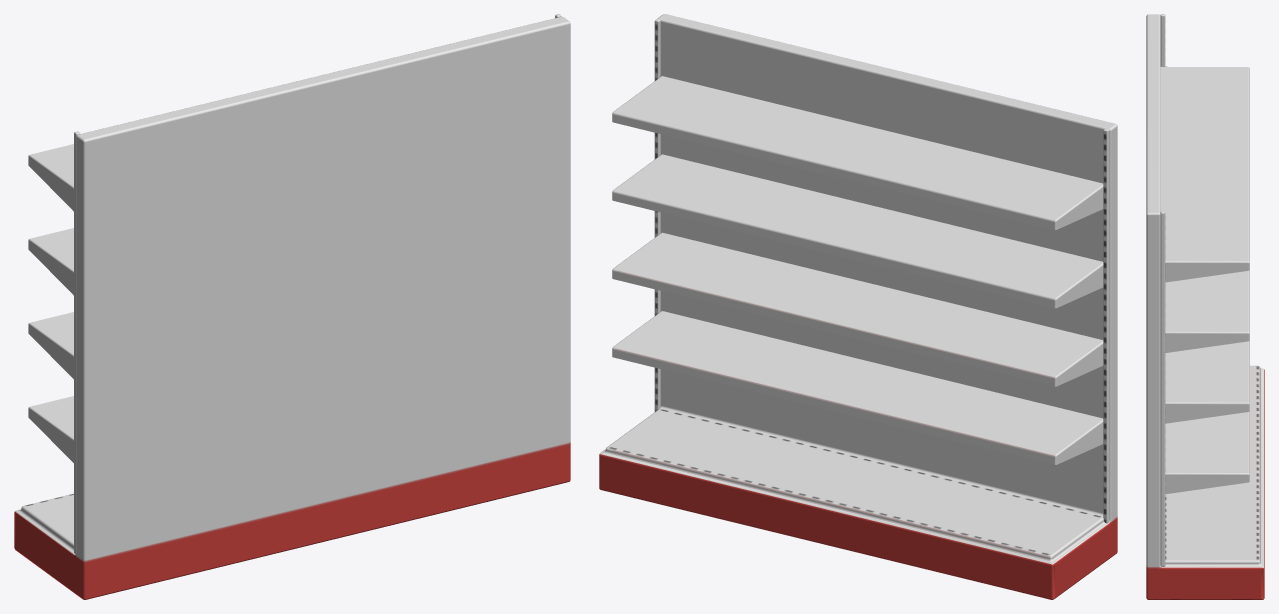
3 renders of one model, left to right at view 1: azimuth 30°, elevation 25°; view 2: azimuth 150°, elevation 25°; view 3: azimuth 270°, elevation 25°, orthographic. The views are drawn at different scales.
Parts seen in each view (by area): view 1: etagere; view 2: etagere; view 3: etagere.
Boxes of the visible parts, x1,y1,x2,y2 form: etagere: (14, 14, 570, 599); etagere: (599, 14, 1117, 599); etagere: (1146, 14, 1264, 599).
Size of the model in its own units: 2.18 by 1.97 by 0.5446.
1 material, 1 textured.
